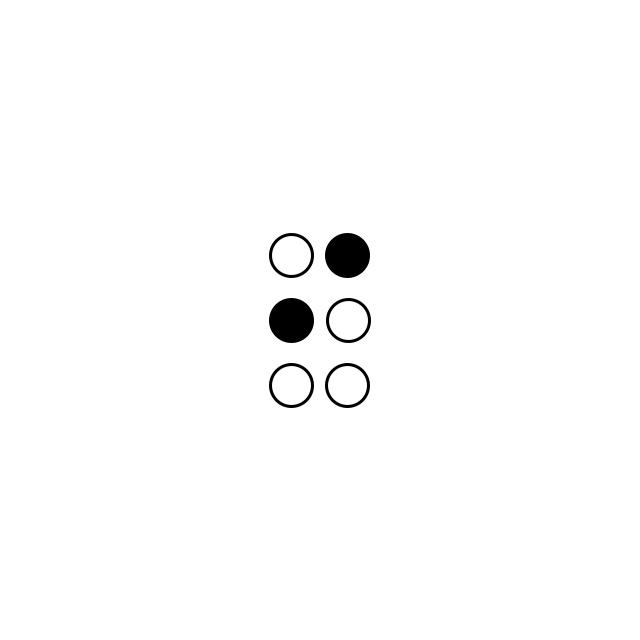I: (263, 226, 375, 417)
